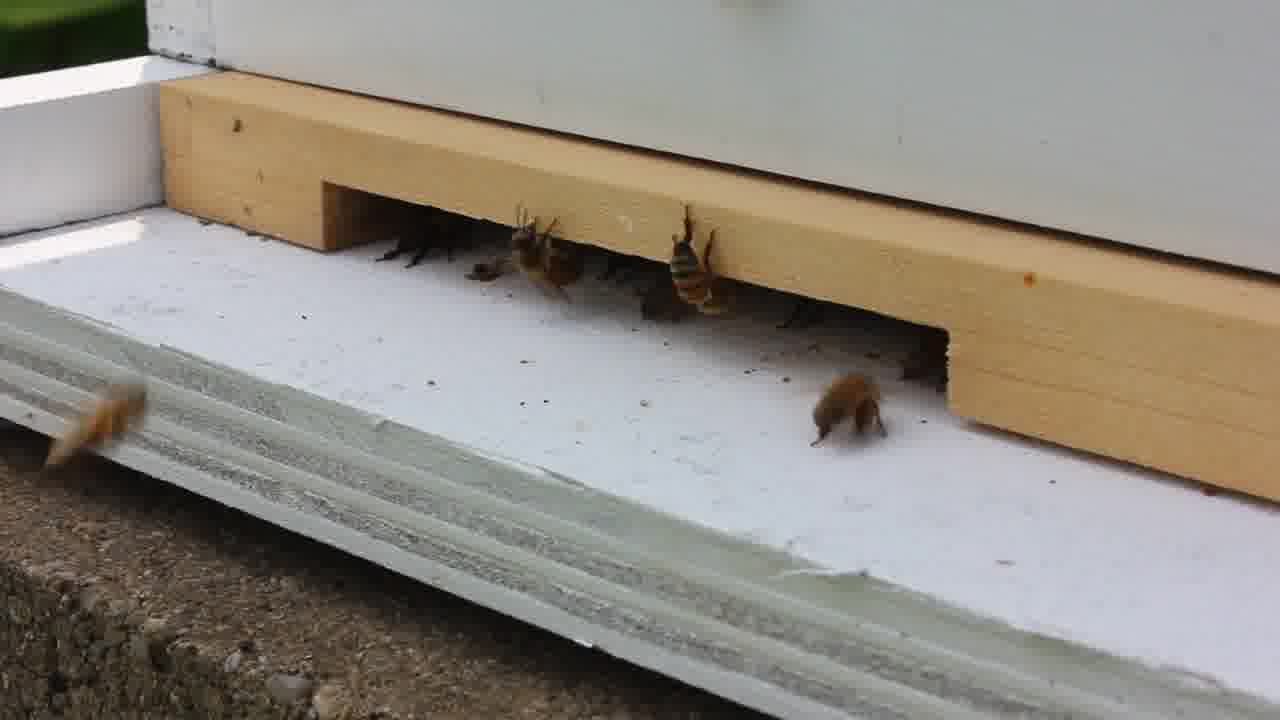pollen: (810, 369, 888, 450)
